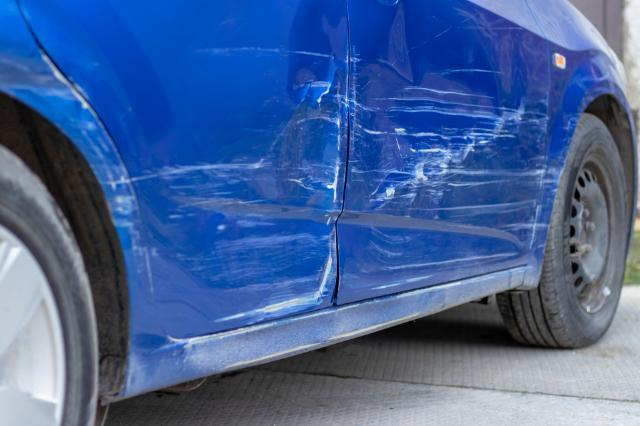Door: (80, 55, 337, 330), (342, 56, 552, 303)
Fender: (2, 41, 145, 384)
